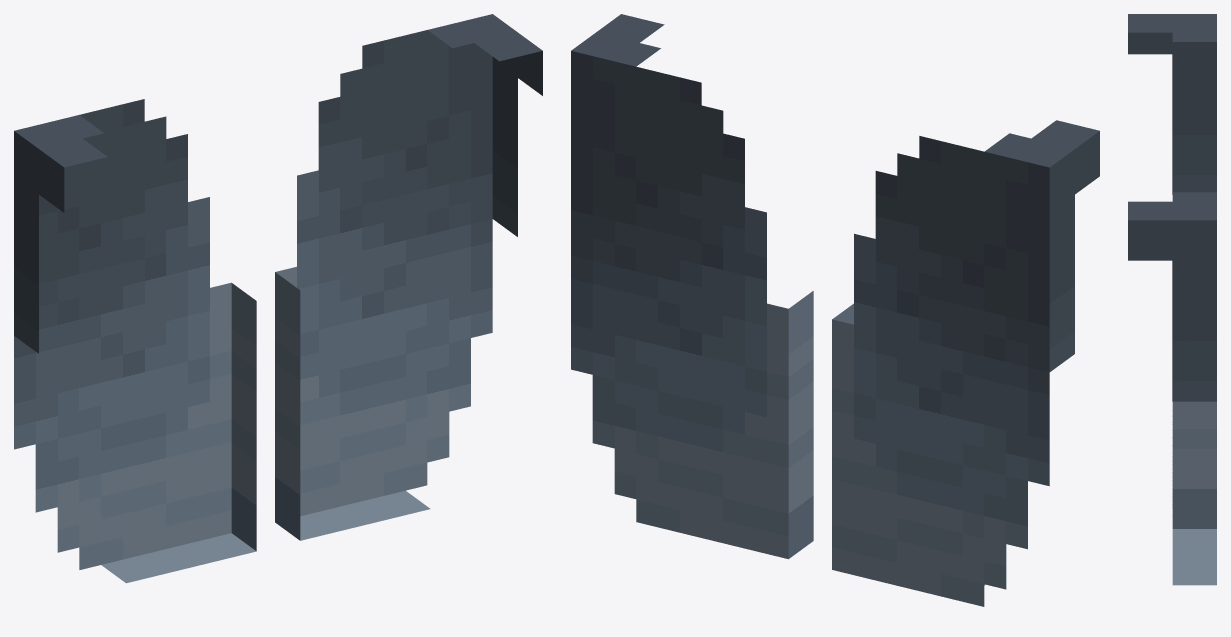
File: elytra.gltf
The picture shows the model from 3 angles, left to right: view 1: azimuth 30°, elevation 25°; view 2: azimuth 150°, elevation 25°; view 3: azimuth 270°, elevation 25°; orthographic projection. The views are drawn at different scales.
Visible parts, largest first — view 1: left_wing, right_wing; view 2: right_wing, left_wing; view 3: left_wing, right_wing.
Part boxes in pixels (<box>): left_wing: <box>275,14,542,540</box>; right_wing: <box>14,99,256,583</box>; right_wing: <box>832,120,1099,606</box>; left_wing: <box>571,14,813,559</box>; left_wing: <box>1128,192,1216,585</box>; right_wing: <box>1128,14,1216,194</box>.
Size of the model in its own units: 1.38 by 1.25 by 0.25.
Materials: 1 (1 with a texture image).
